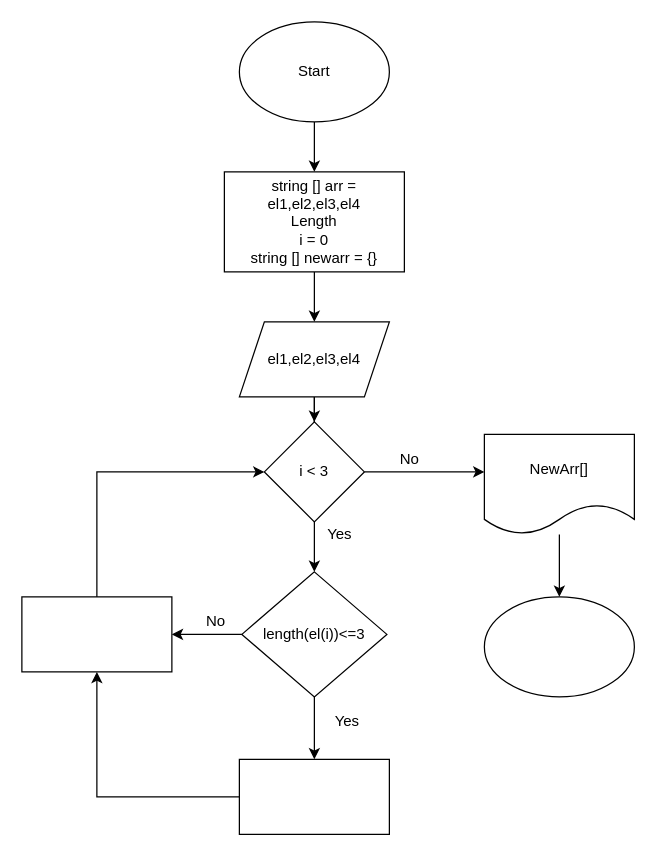
This 656x856 diagram has some shape labels left out. The centre of each missing label's shape, as x and y in pixels:
"End" belongs at [558,646].
"i++" belongs at [96,634].
"newarr[i] = arr[i]" belongs at [313,796].
